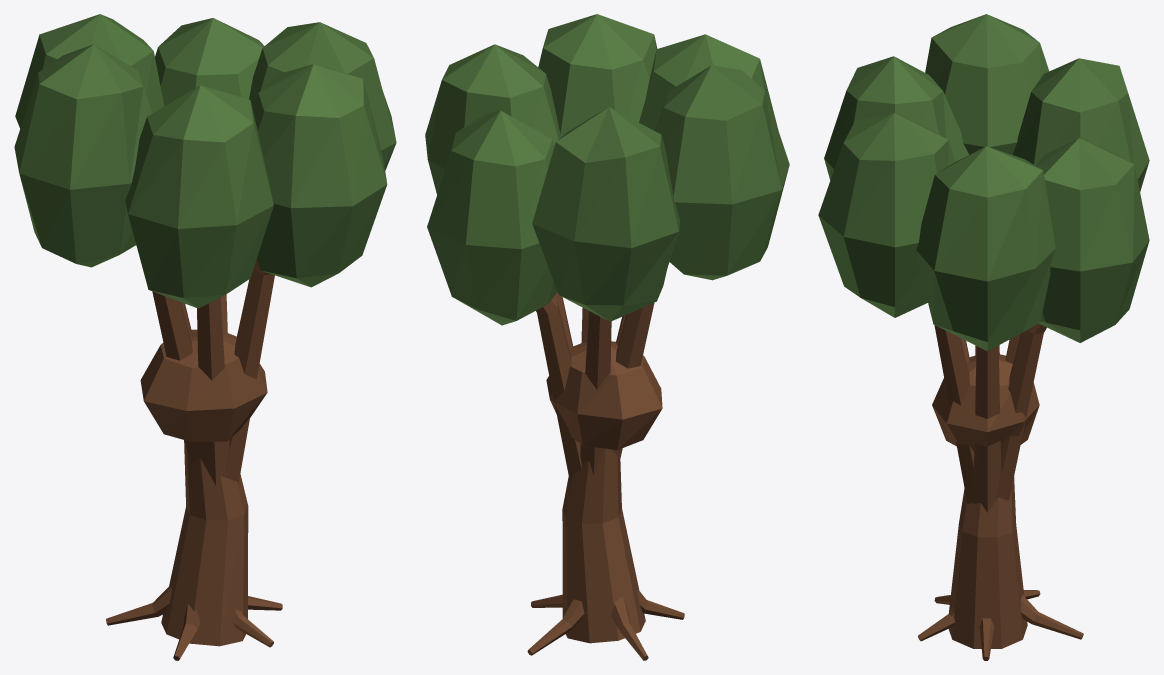
The model's file is Plant_Common_PollardedTree_001.glb.
The picture shows the model from 3 angles, left to right: view 1: azimuth 30°, elevation 25°; view 2: azimuth 150°, elevation 25°; view 3: azimuth 270°, elevation 25°; orthographic projection. The views are drawn at different scales.
Visible parts, largest first — view 1: Plant_Common_PollardedTree_001; view 2: Plant_Common_PollardedTree_001; view 3: Plant_Common_PollardedTree_001.
Part boxes in pixels (x1,y1,x2,y2): Plant_Common_PollardedTree_001: [14, 14, 396, 660]; Plant_Common_PollardedTree_001: [425, 14, 789, 660]; Plant_Common_PollardedTree_001: [818, 14, 1149, 660].
Size of the model in its own units: 2.96 by 4.7 by 2.48.
